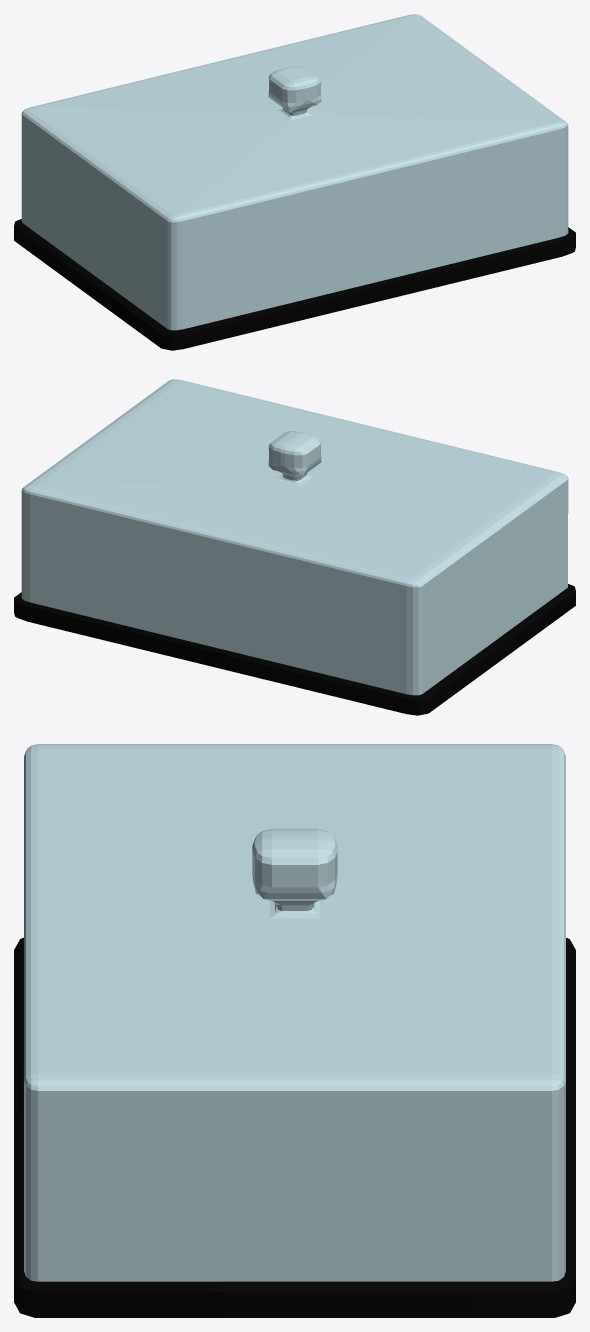
Rendered from Beurre_ProjetVR.fbx.
The picture shows the model from 3 angles, top to bottom: view 1: azimuth 30°, elevation 25°; view 2: azimuth 150°, elevation 25°; view 3: azimuth 270°, elevation 25°; orthographic projection. The views are drawn at different scales.
Parts seen in each view (by area): view 1: Cube, Socle beurre; view 2: Cube, Socle beurre; view 3: Cube, Socle beurre.
Part boxes in pixels (x1,y1,x2,y2): Cube: (21,14,568,330); Socle beurre: (14,219,575,350); Cube: (21,379,568,695); Socle beurre: (14,584,575,715); Cube: (24,744,565,1281); Socle beurre: (14,937,575,1317).
Size of the model in its own units: 27.27 by 10.88 by 18.12.
